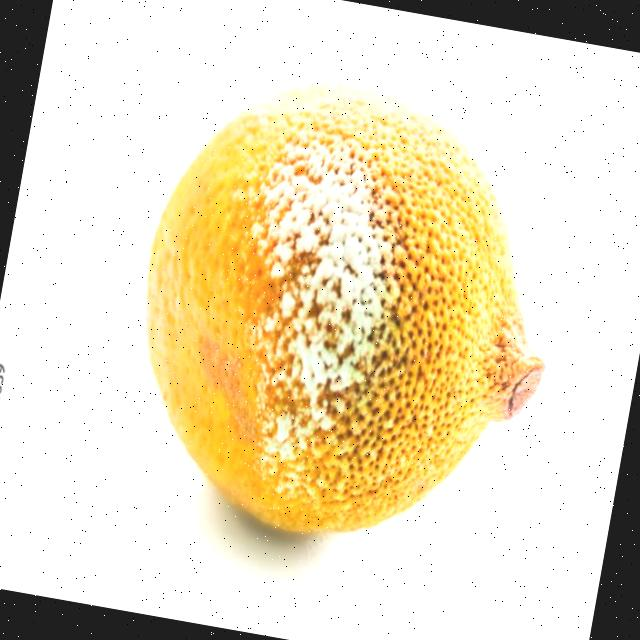Rotten: (106, 56, 585, 572)
